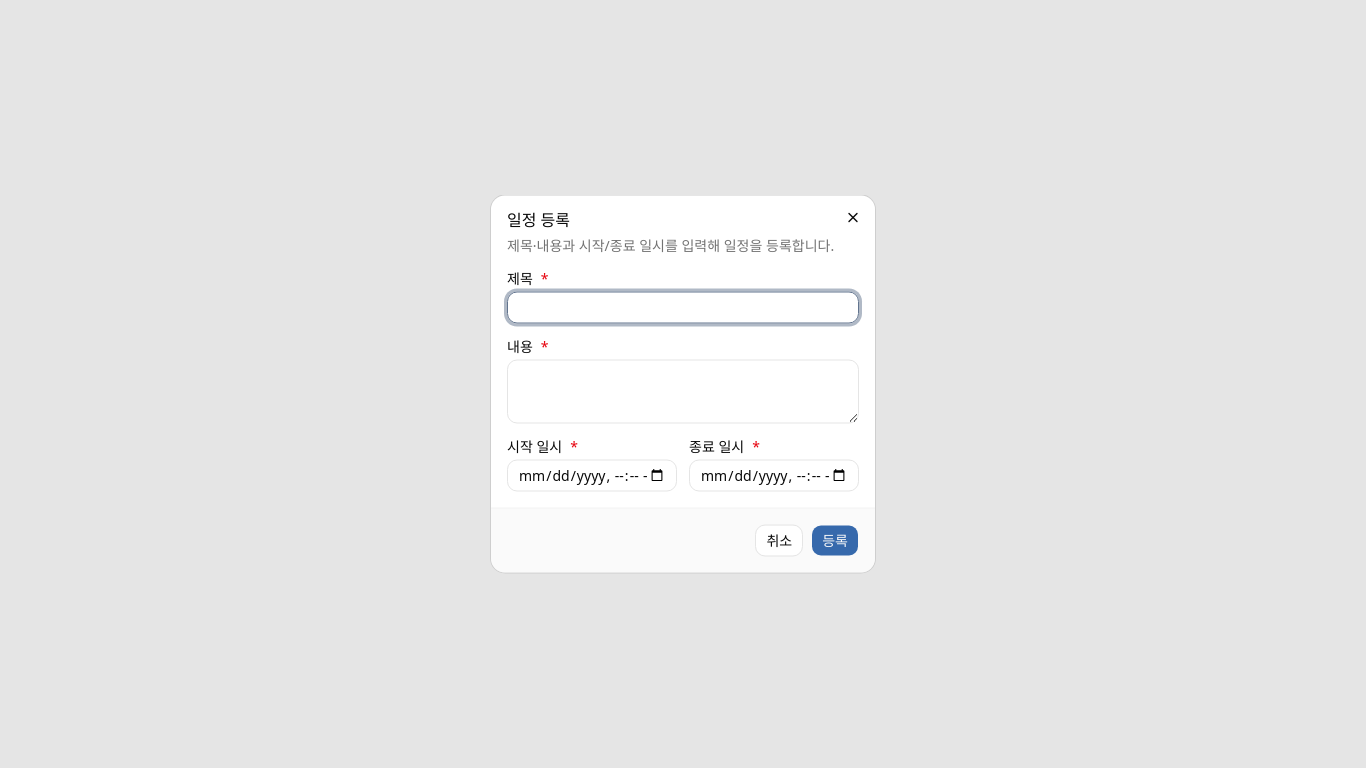
Scenario: ScheduleCreateDialog › 빈 값 제출 시 zod 클라 사전검증 메시지 4개를 노출하고 요청을 보내지 않는다
Click the button "등록" at (835, 540), box left=811, top=524, right=859, bottom=556
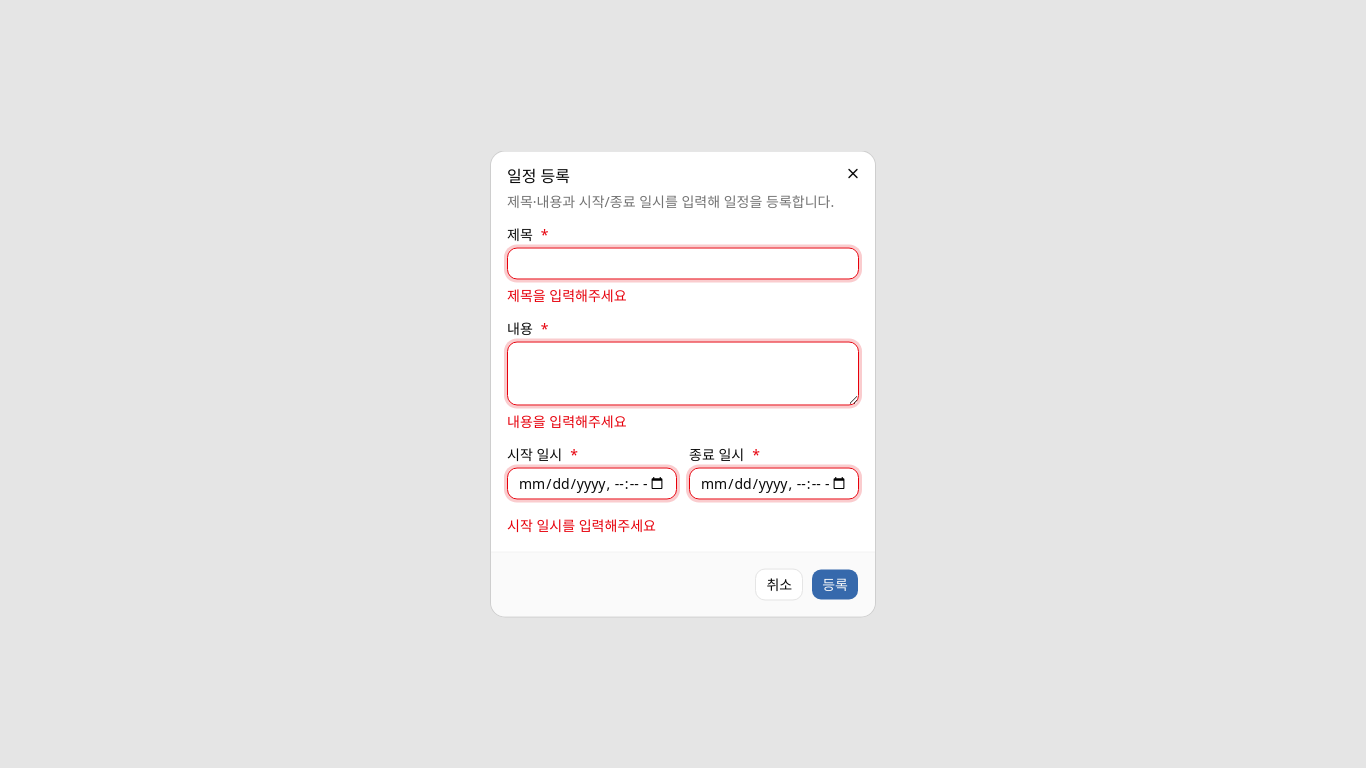
Expected: the text "제목을 입력해주세요" is shown, left=507, top=286, right=627, bottom=304
Expected: the text "내용을 입력해주세요" is shown, left=507, top=412, right=627, bottom=430
Expected: the text "시작 일시를 입력해주세요" is shown, left=507, top=516, right=656, bottom=534
